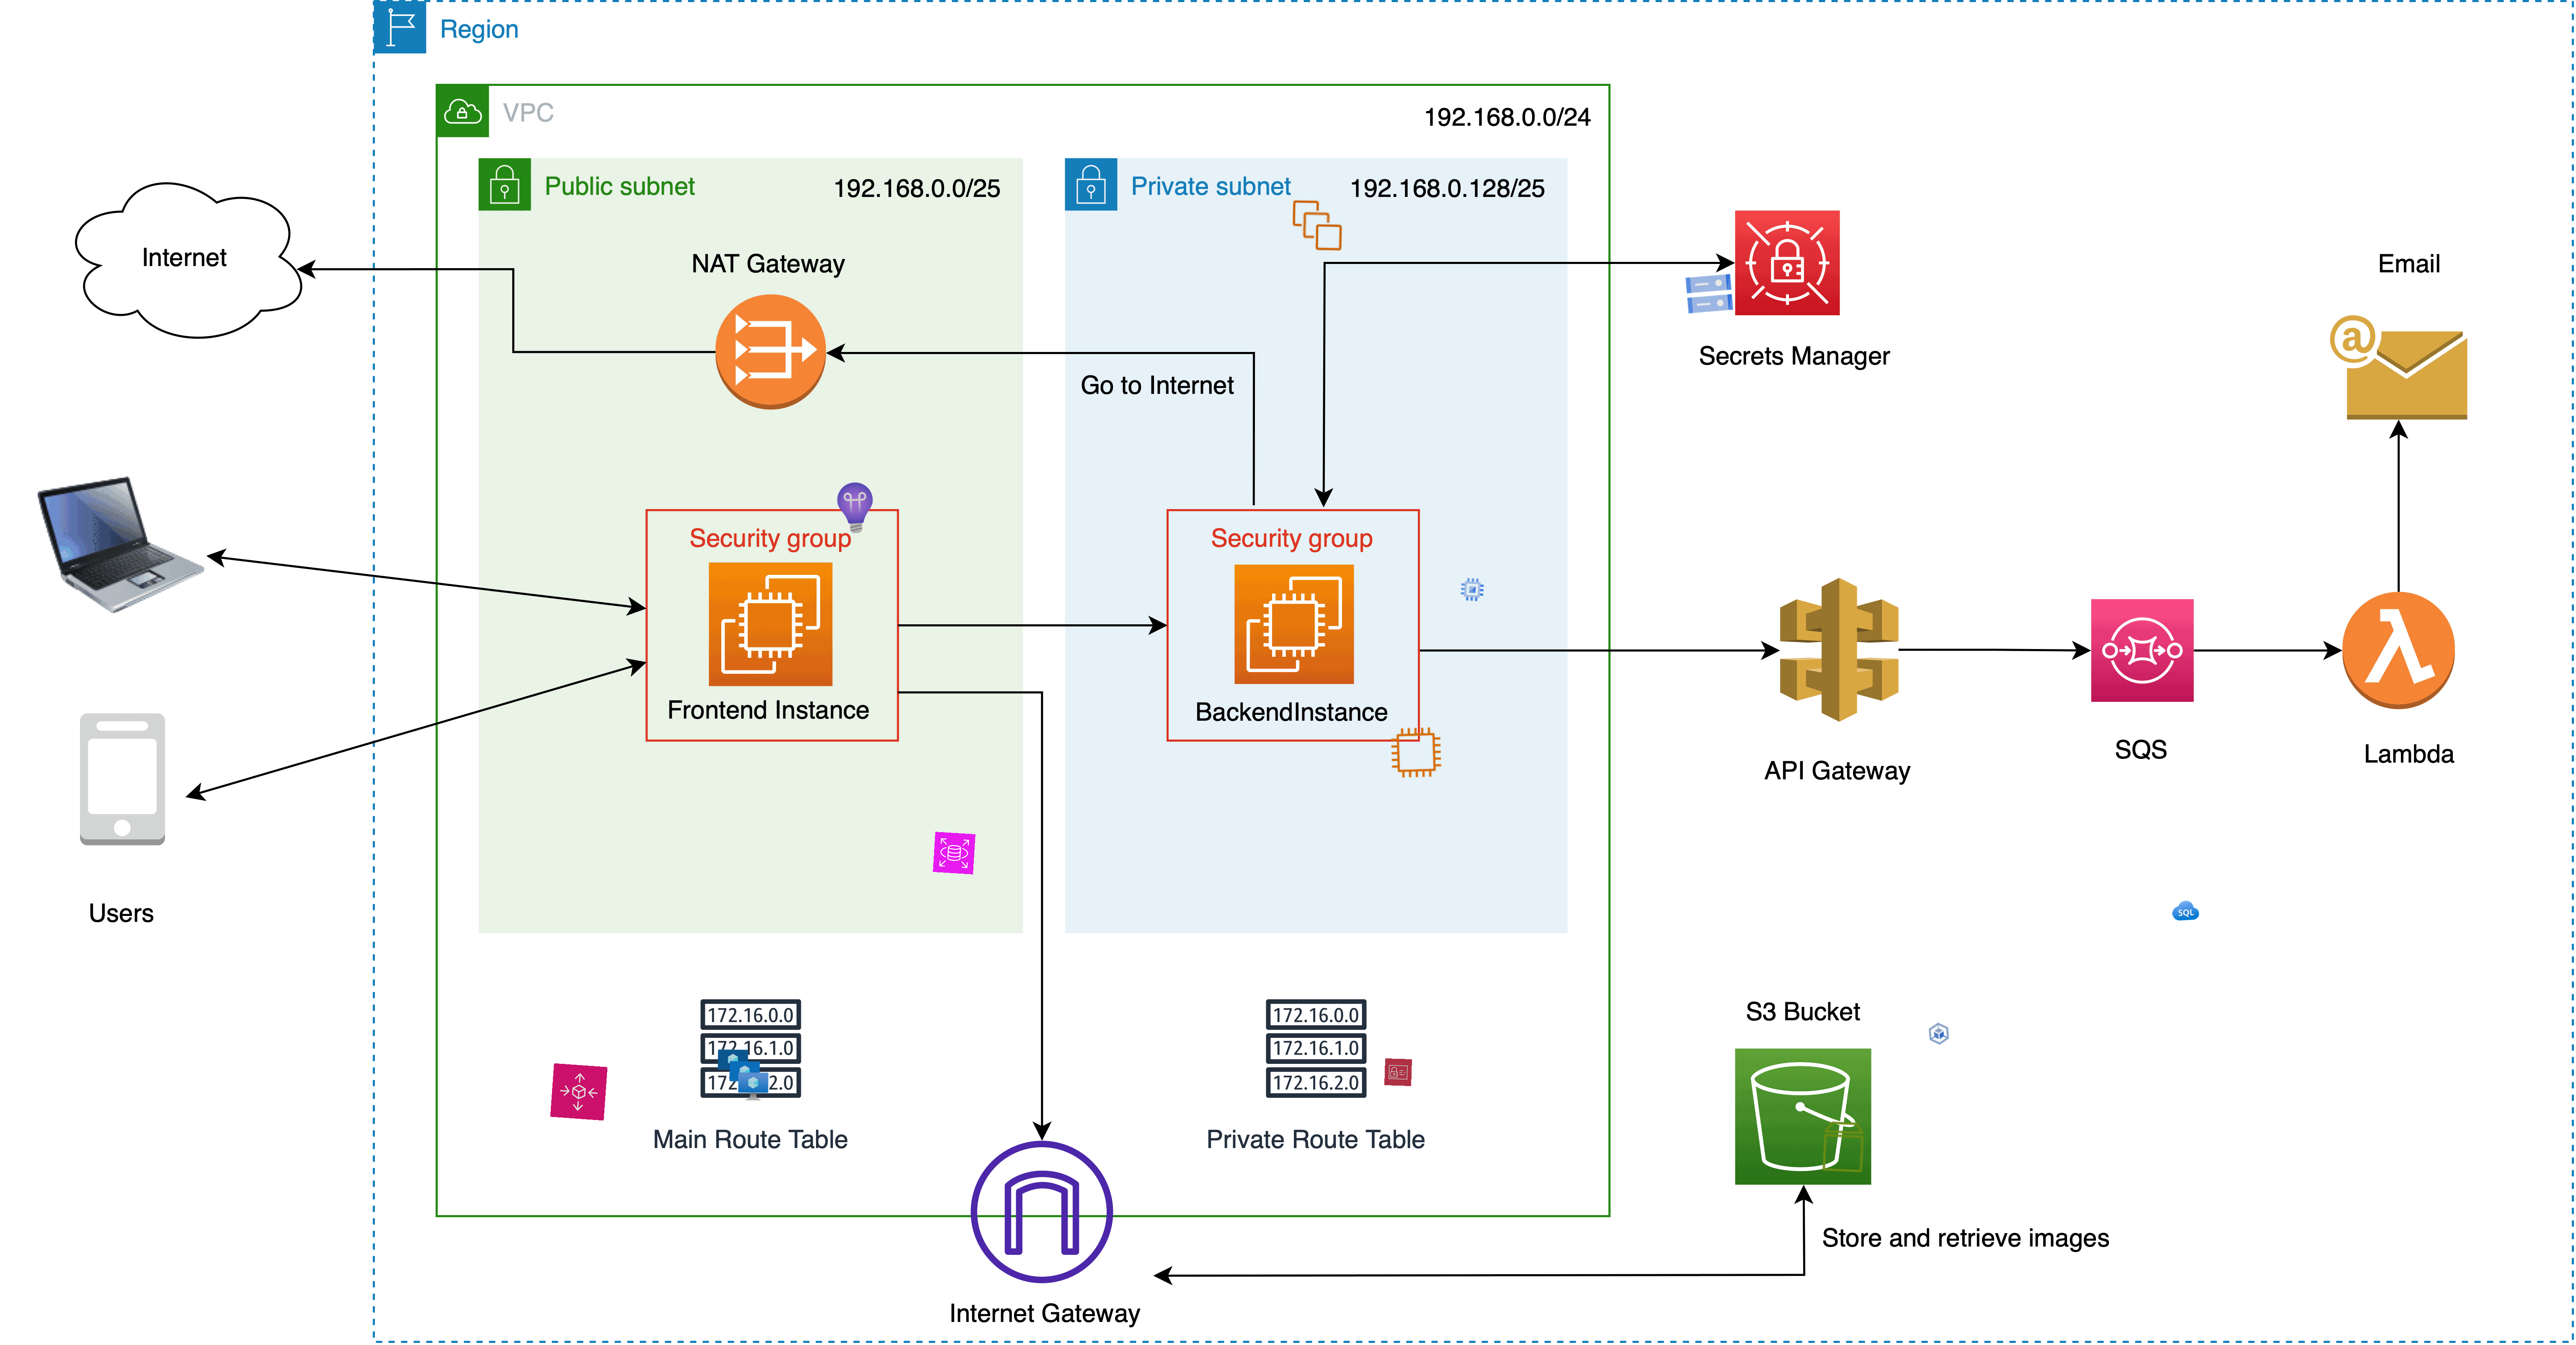aws_amazon_rds: (934, 832, 976, 875)
aws_auto_scaling: (550, 1064, 608, 1122)
aws_ec2_instance: (1389, 724, 1443, 781)
aws_ec2_instances: (1290, 198, 1344, 252)
aws_elastic_block_store_volume: (1816, 1118, 1872, 1175)
aws_identity_and_access_management: (1383, 1059, 1412, 1086)
azure_application_insights: (828, 479, 884, 535)
azure_sql: (2172, 897, 2199, 926)
azure_vm_scale_sets: (716, 1047, 770, 1101)
gcp_cloud_storage: (1680, 264, 1739, 324)
gcp_compute_engine: (1458, 574, 1487, 603)
gcp_google_kubernetes_engine: (1923, 1019, 1954, 1048)
